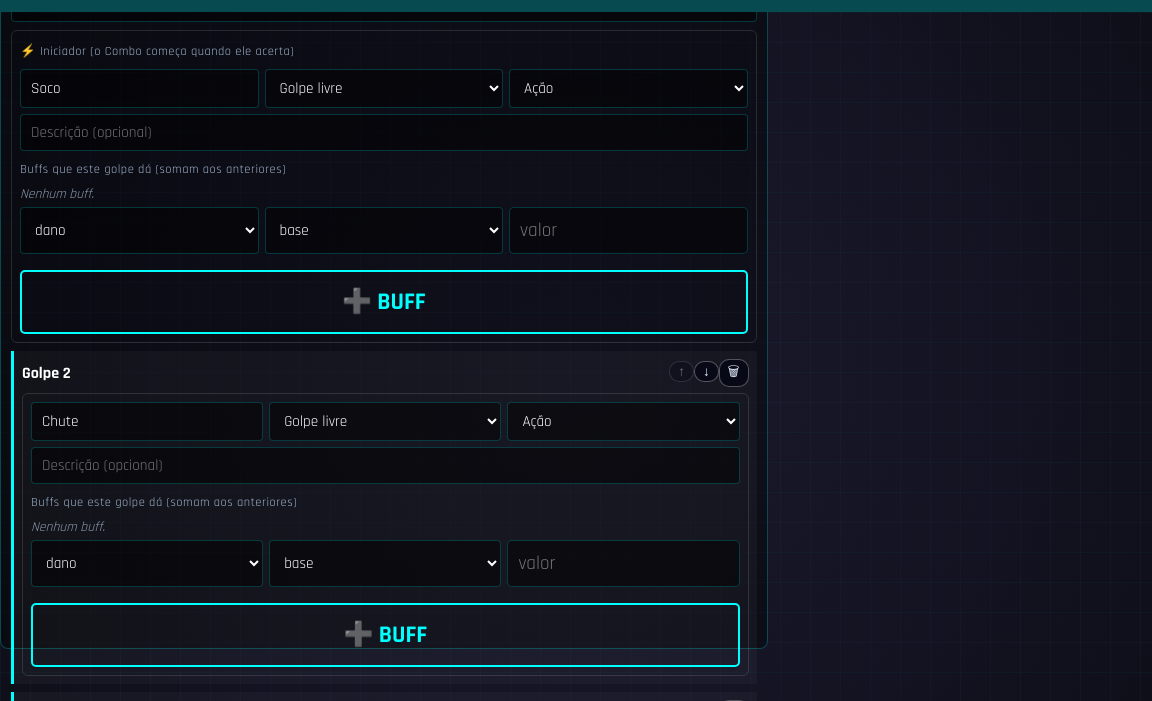
Test: EditorCombo - passos › remover todos os golpes volta a bloquear o salvar
The width and height of the screenshot is (1152, 701).
(page scrolled)
Click the button named "Remover o golpe 2": coordinates (734, 373) left=719, top=359, right=749, bottom=387
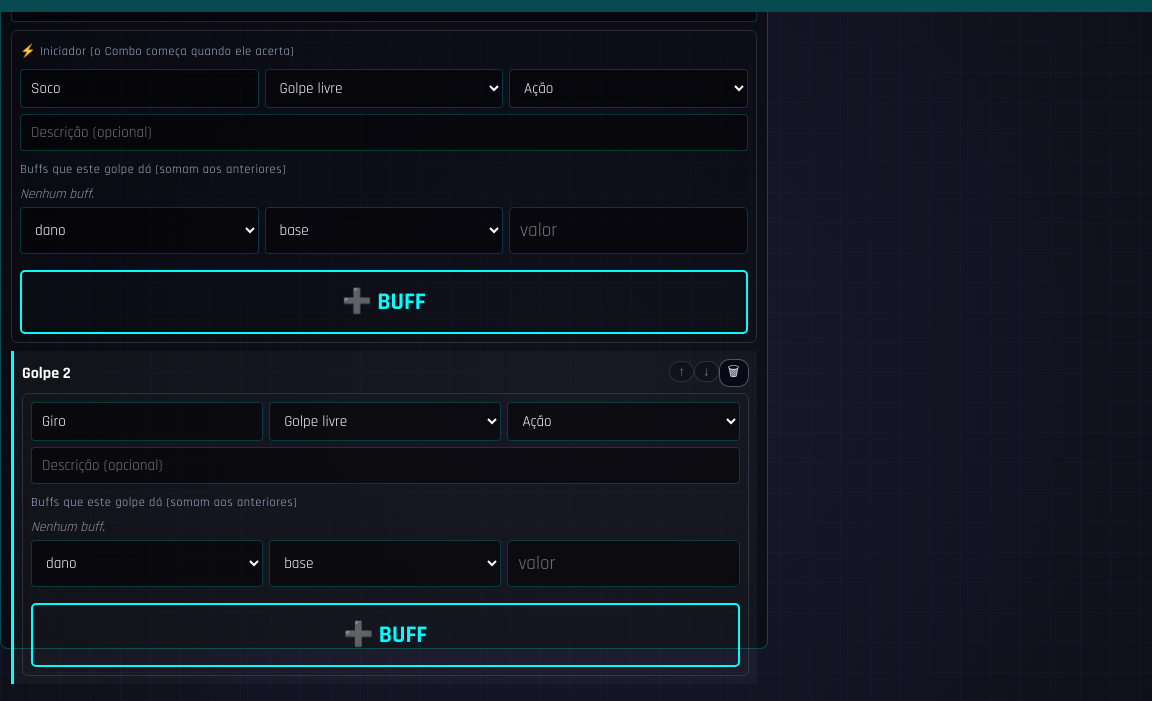
Click the button named "Remover o golpe 2": coordinates (734, 373) left=719, top=359, right=749, bottom=387
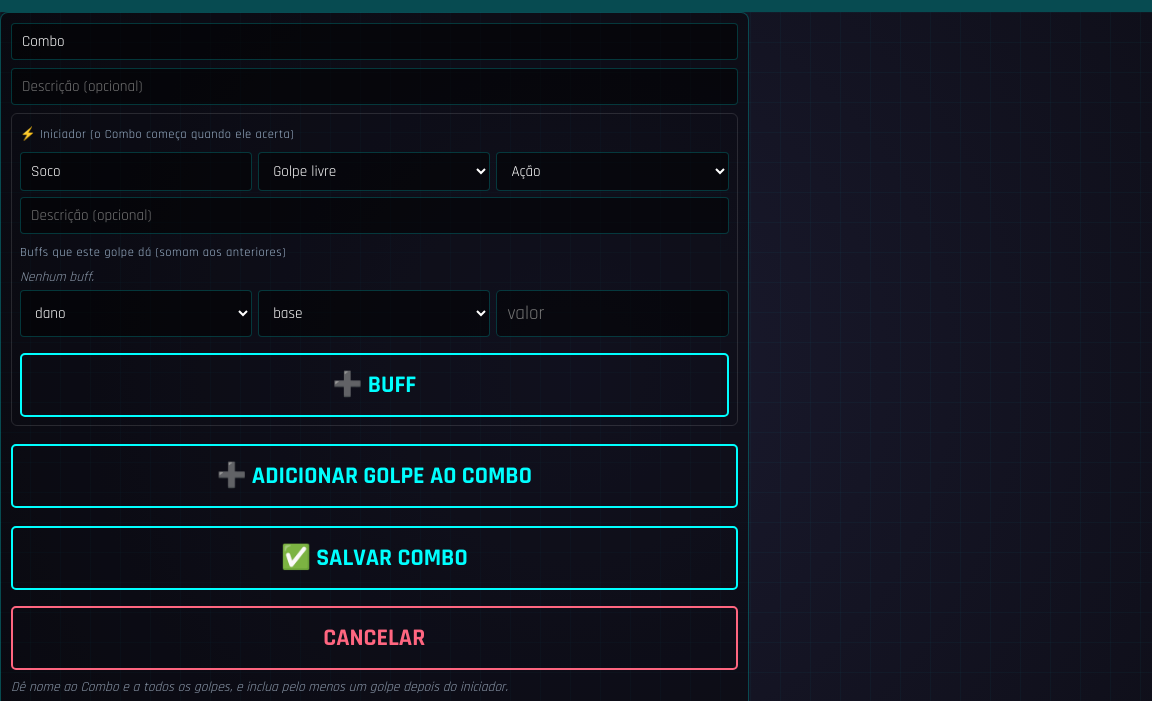
Now the button "✅ Salvar Combo" is disabled, box left=11, top=526, right=738, bottom=590
